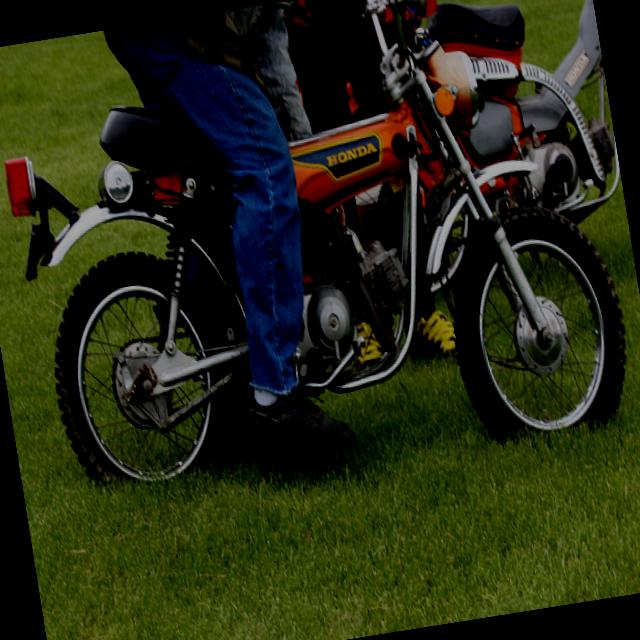Vehicle: (0, 0, 638, 516), (422, 0, 635, 288)
